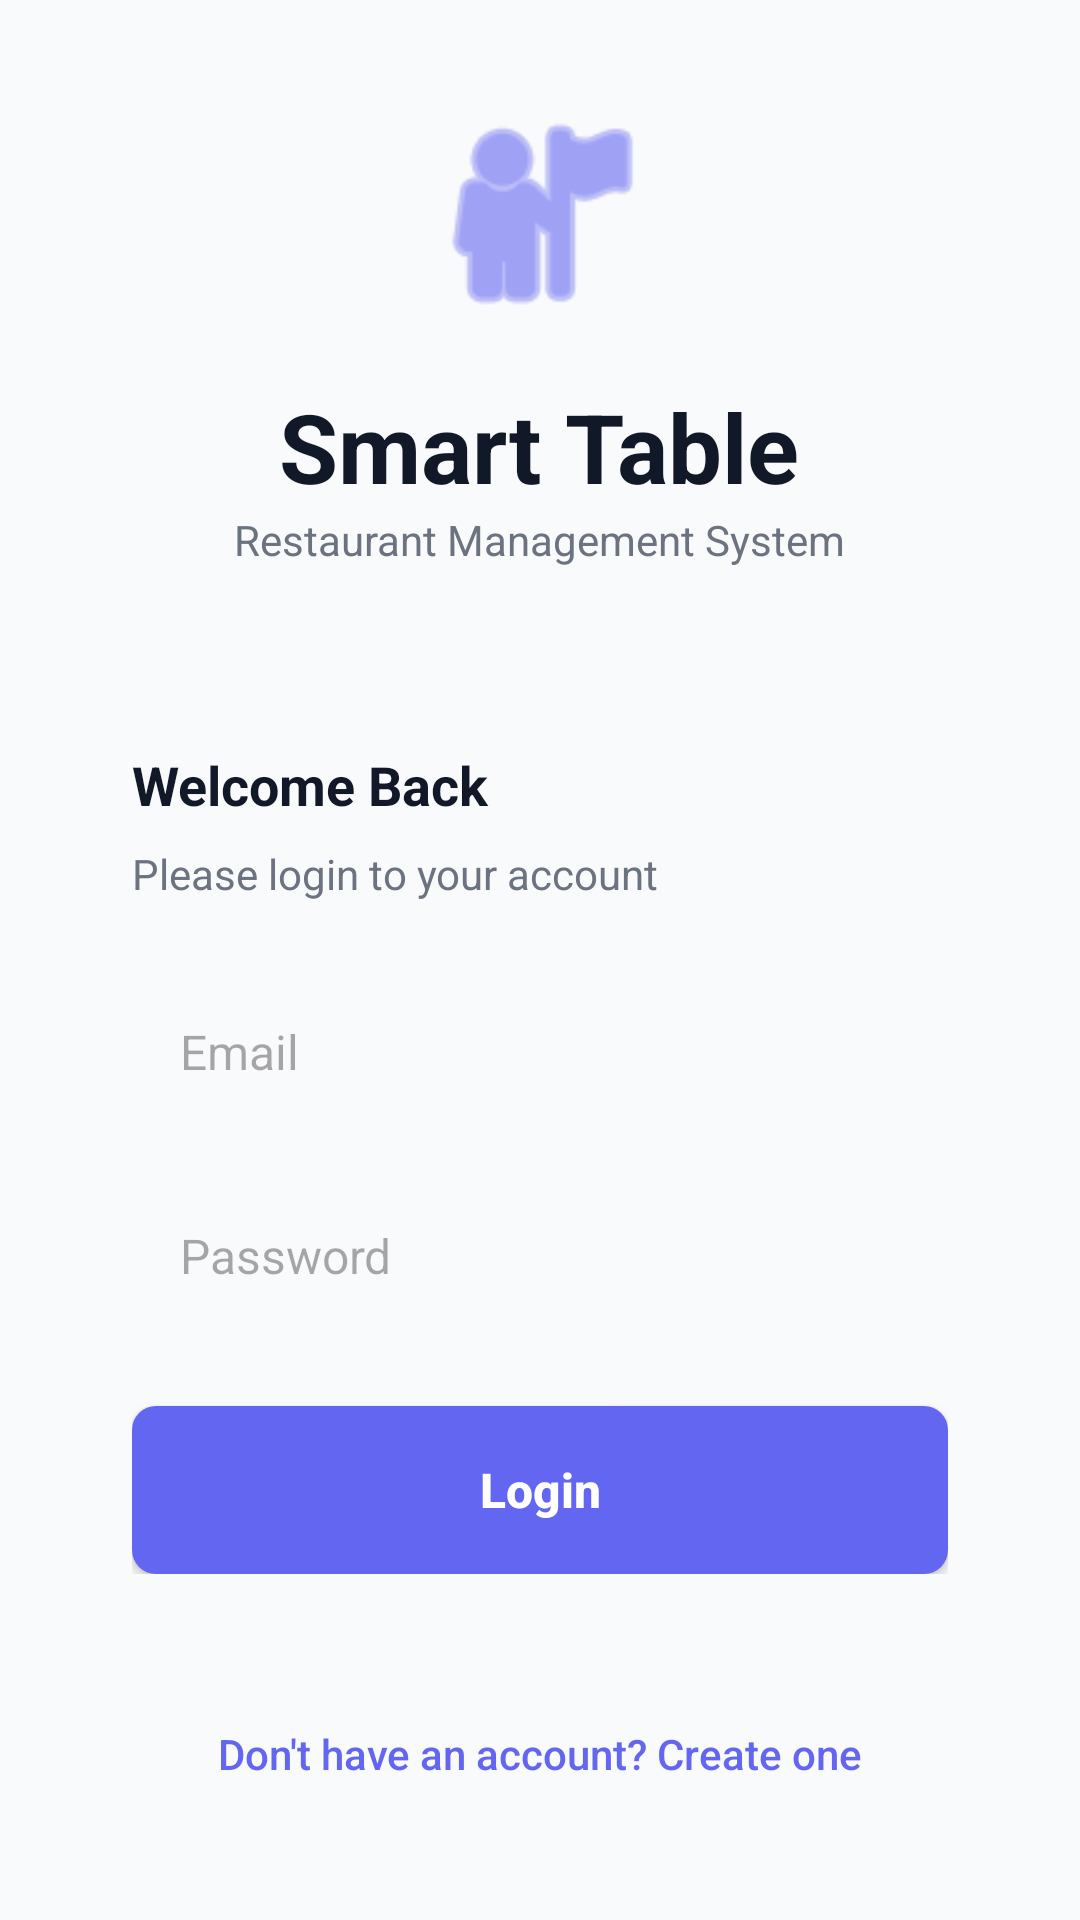

Point at icon controls on the screen. Image size 1080 x 1920, points as point (x, y).
myplaces: point (542, 214)
